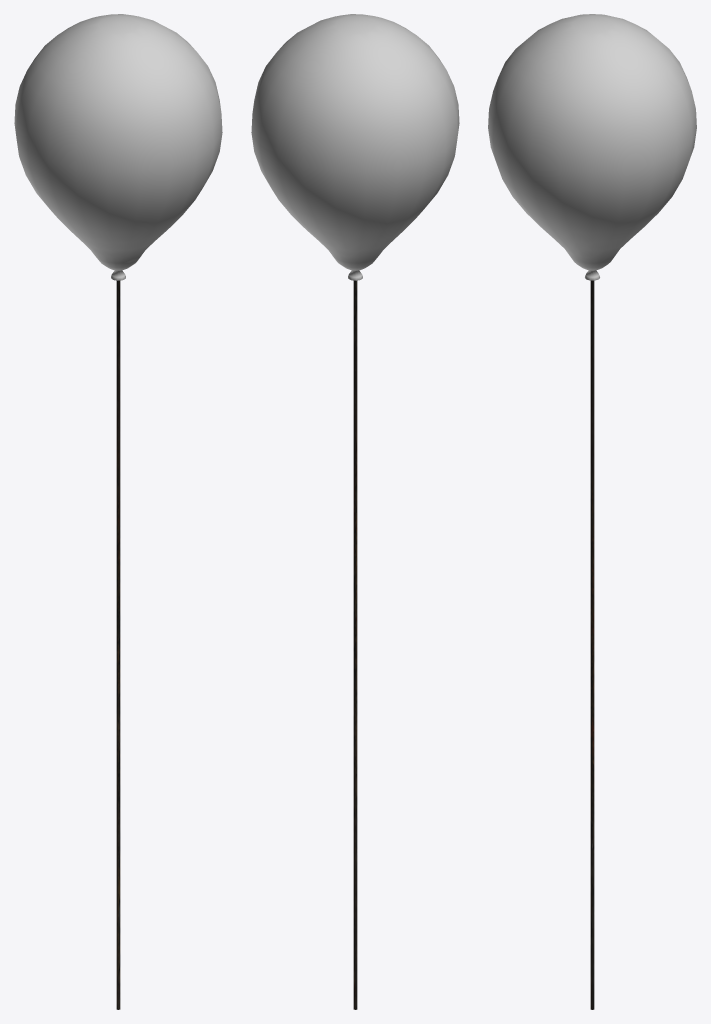
Rendered from globo.obj.
The picture shows the model from 3 angles, left to right: view 1: azimuth 30°, elevation 25°; view 2: azimuth 150°, elevation 25°; view 3: azimuth 270°, elevation 25°; orthographic projection.
Visible parts, largest first — view 1: globo; view 2: globo; view 3: globo.
Part boxes in pixels (<box>): globo: <box>14,14,222,1009</box>; globo: <box>251,14,459,1009</box>; globo: <box>488,14,696,1009</box>.
Bounding box in the file's own units: 0.2583 × 1.34 × 0.258.
